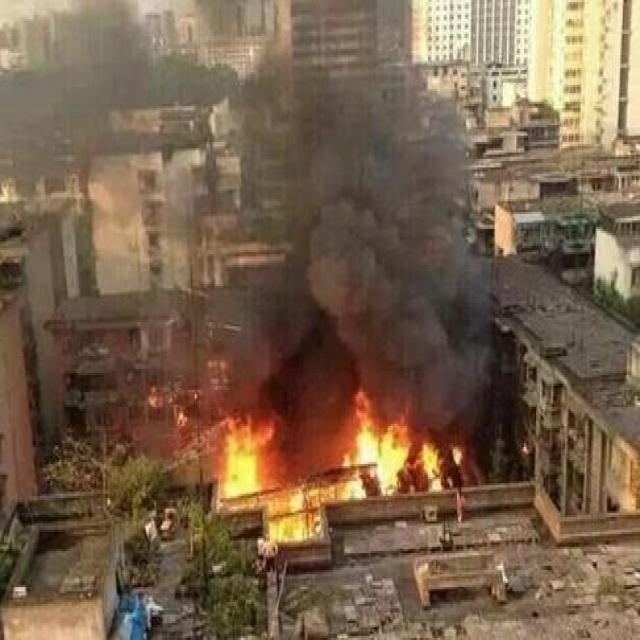Fire: (215, 386, 465, 546)
Smoke: (228, 2, 497, 439)
